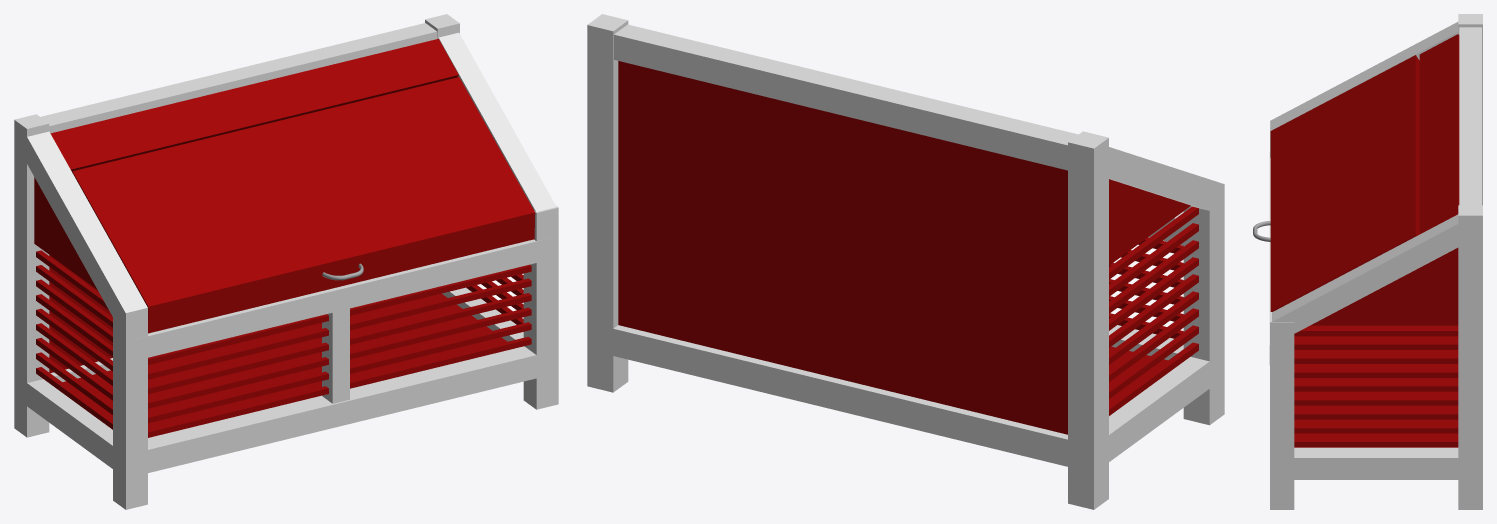
Rendered from dustBox.fbx.
The picture shows the model from 3 angles, left to right: view 1: azimuth 30°, elevation 25°; view 2: azimuth 150°, elevation 25°; view 3: azimuth 270°, elevation 25°; orthographic projection. The views are drawn at different scales.
Parts seen in each view (by area): view 1: dustBOX:pCube39; view 2: dustBOX:pCube39; view 3: dustBOX:pCube39.
Boxes of the visible parts, x1,y1,x2,y2 form: dustBOX:pCube39: [14, 14, 558, 509]; dustBOX:pCube39: [587, 14, 1224, 509]; dustBOX:pCube39: [1253, 14, 1482, 509].
Size of the model in its own units: 253 by 172 by 122.
